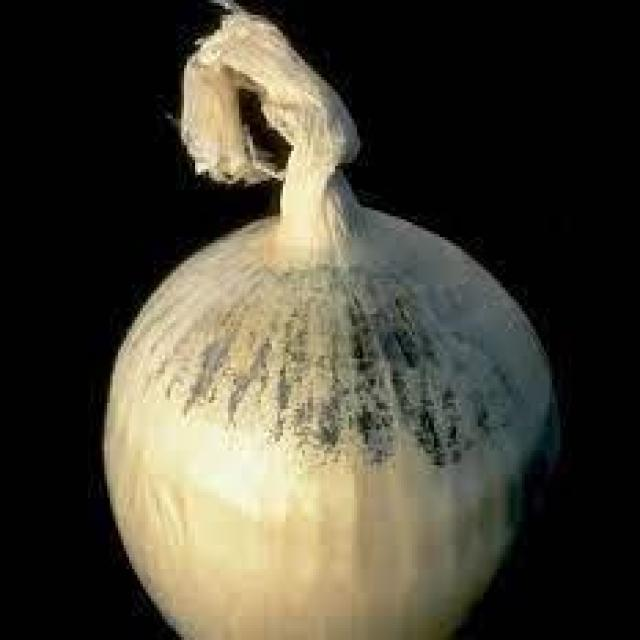Onion: (99, 2, 566, 636)
